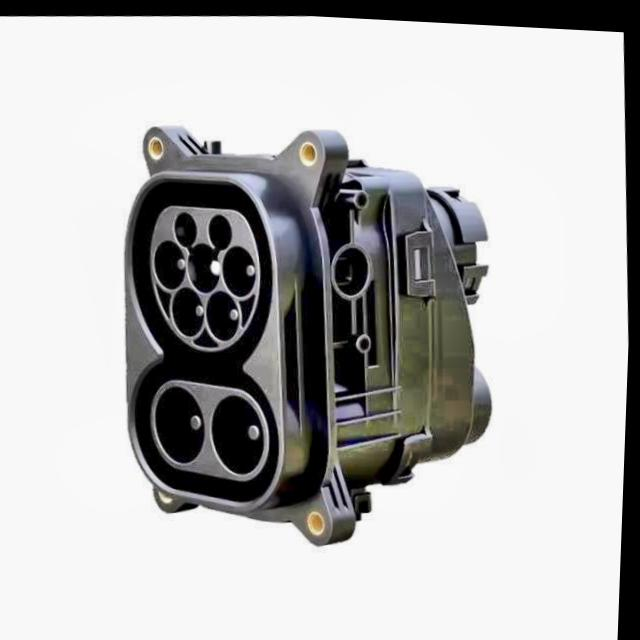inlet: (152, 205, 262, 350)
inlet-above-left: (175, 210, 199, 246)
inlet-above-right: (209, 212, 234, 249)
inlet-below-left: (174, 285, 207, 335)
inlet-below-right: (208, 289, 241, 339)
inlet-center: (189, 241, 222, 291)
inlet-center-left: (156, 238, 187, 288)
inlet-center-right: (224, 244, 257, 295)
